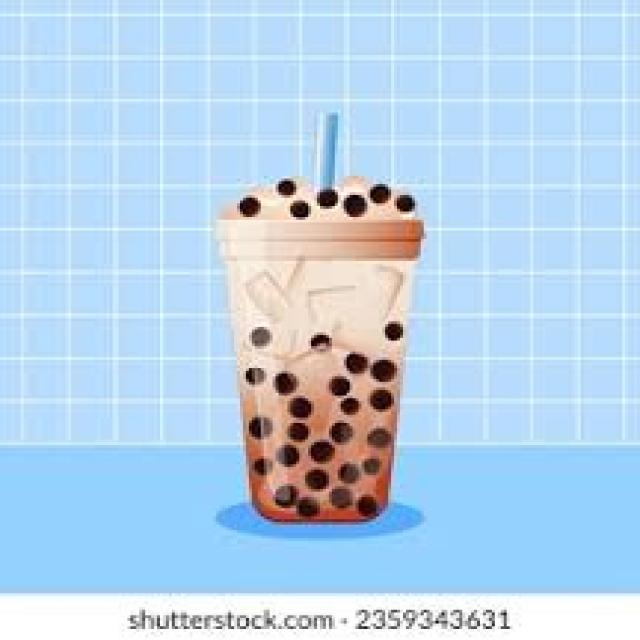bottle: (217, 221, 423, 522)
